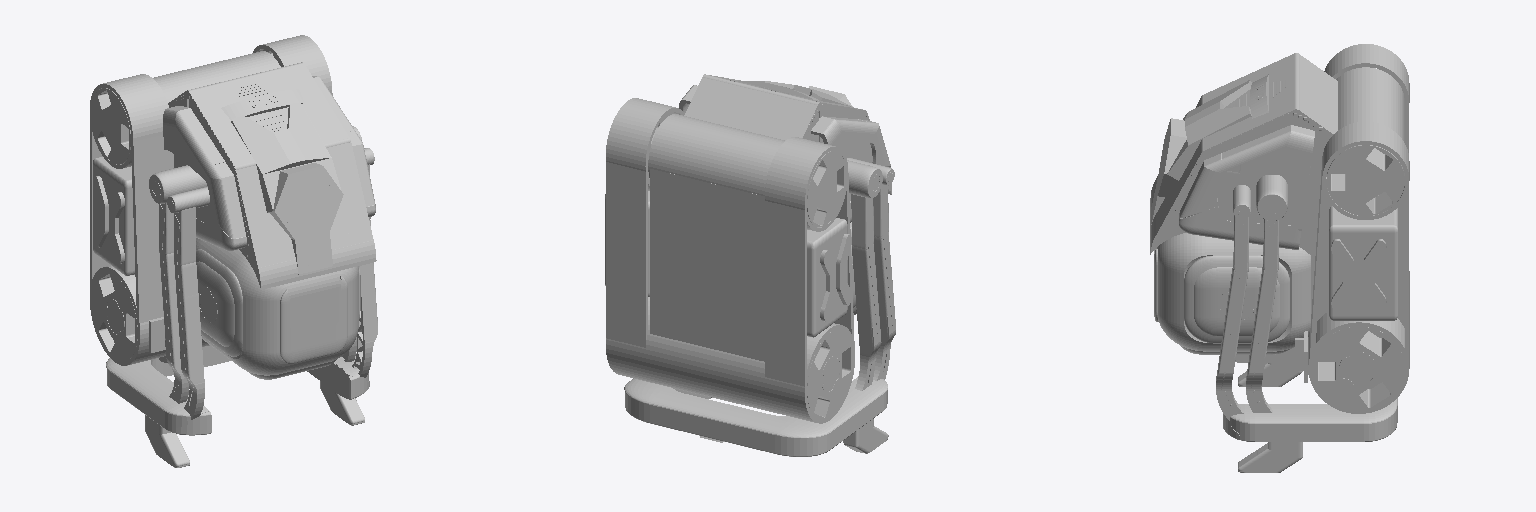
Rendered from tinker.obj.
3 views of the same model, side by side, from view 1: azimuth 30°, elevation 25°; view 2: azimuth 150°, elevation 25°; view 3: azimuth 270°, elevation 25° (orthographic).
Parts seen in each view (by area): view 1: obj_0; view 2: obj_0; view 3: obj_0.
Part boxes in pixels (left/top/right/bottom): obj_0: left=90, top=35, right=377, bottom=467; obj_0: left=605, top=74, right=895, bottom=456; obj_0: left=1150, top=44, right=1409, bottom=472.
Size of the model in its own units: 69.66 by 106 by 71.33.